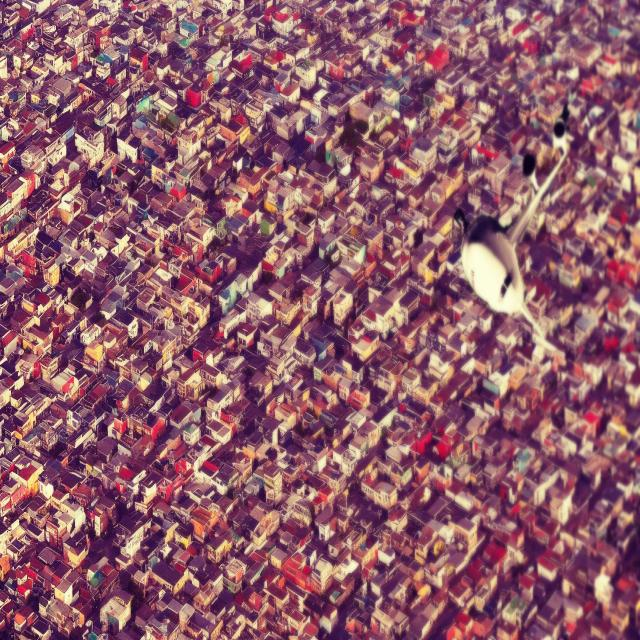airplane: (452, 118, 573, 348)
